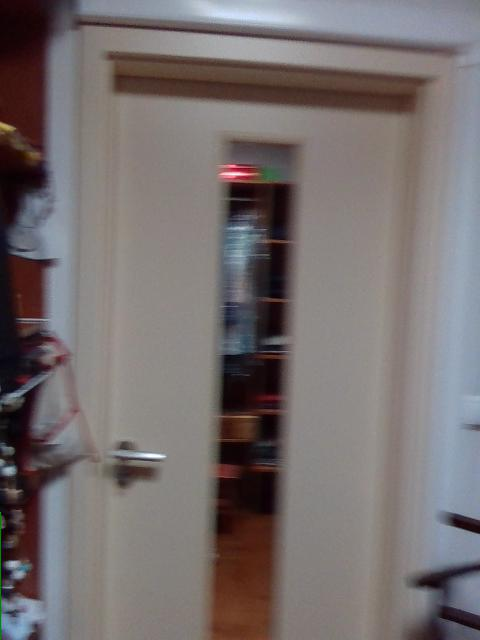door: (68, 26, 456, 639)
